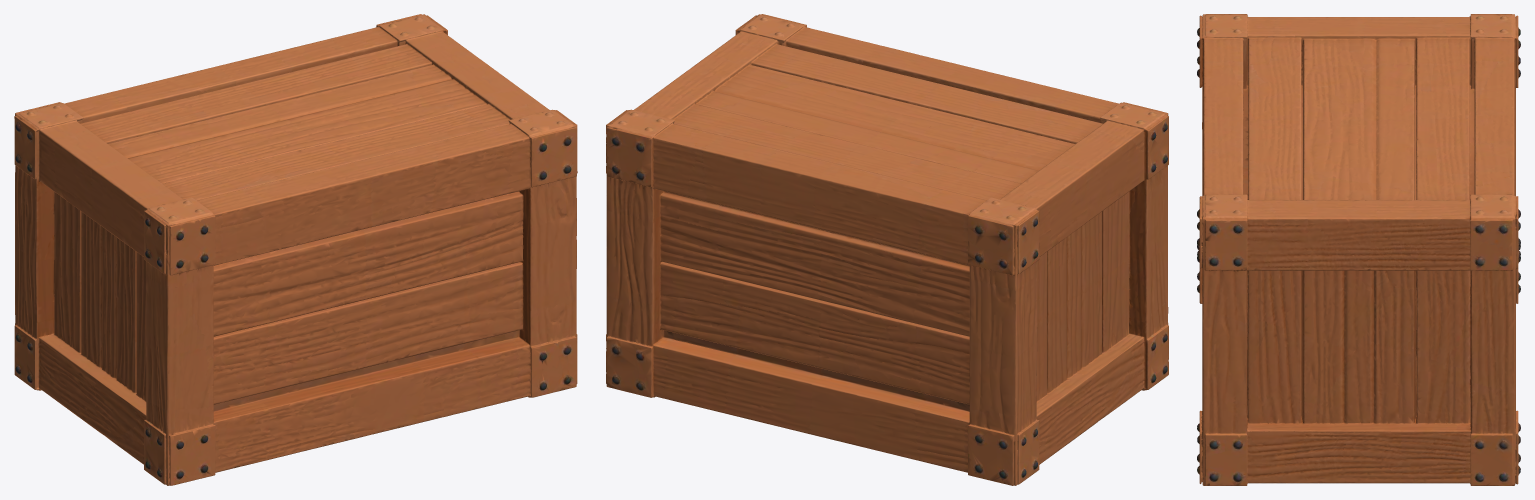
The model's file is Meshy_AI_A_classic_wooden_ship_0823161617_texture-optimized.glb.
3 renders of one model, left to right at view 1: azimuth 30°, elevation 25°; view 2: azimuth 150°, elevation 25°; view 3: azimuth 270°, elevation 25°, orthographic. The views are drawn at different scales.
Visible parts, largest first — view 1: mesh_node; view 2: mesh_node; view 3: mesh_node.
Boxes of the visible parts, left/top/right/bottom form: mesh_node: left=14, top=14, right=577, bottom=485; mesh_node: left=606, top=14, right=1168, bottom=485; mesh_node: left=1197, top=14, right=1520, bottom=485.
Size of the model in its own units: 1.9 by 1.16 by 1.24.
1 material, 1 textured.
